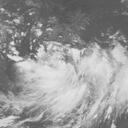cyclone: (13, 40, 122, 111)
